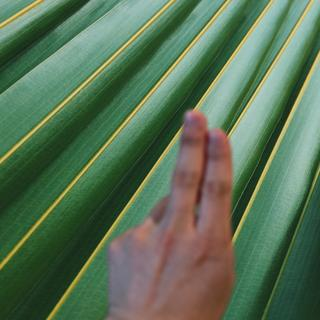DHAVE: (96, 107, 245, 320)
